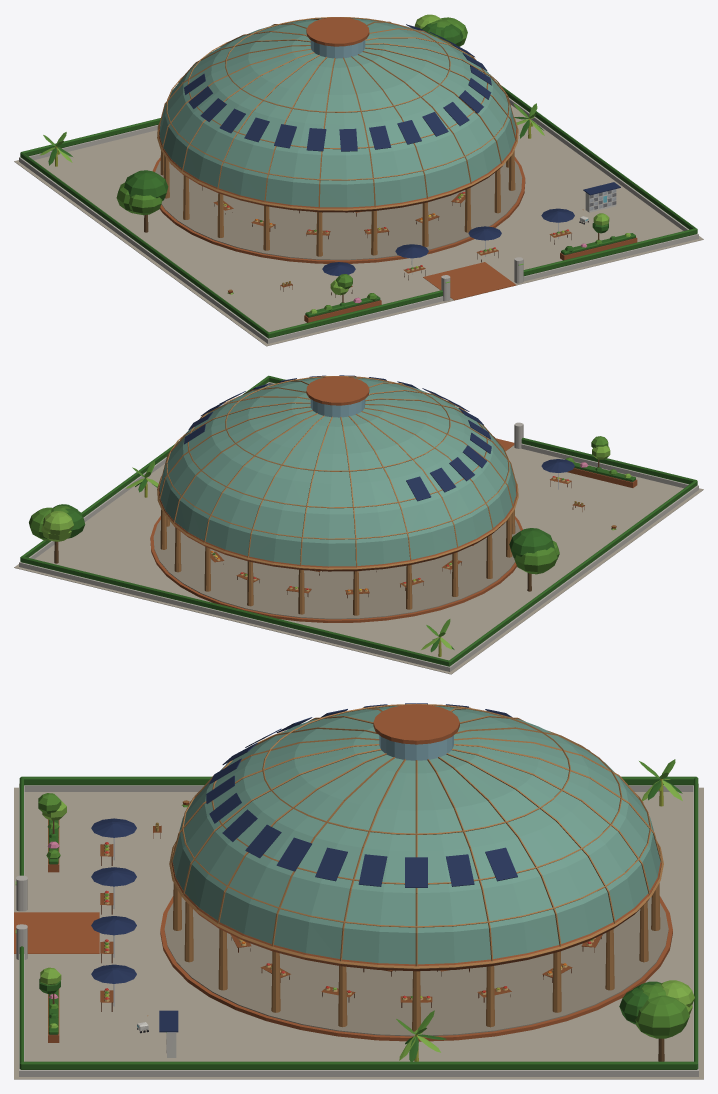
Rendered from market.glb.
3 views of the same model, one above another, from view 1: azimuth 30°, elevation 25°; view 2: azimuth 150°, elevation 25°; view 3: azimuth 270°, elevation 25° (orthographic). The views are drawn at different scales.
Visible parts, largest first — view 1: body; view 2: body; view 3: body.
Boxes of the visible parts, box(x1,y1,x2,y2) form: body: box(14, 14, 703, 346); body: box(14, 375, 703, 674); body: box(14, 703, 703, 1079).
Bounding box in the file's own units: 47.9 × 16.51 × 47.9.
